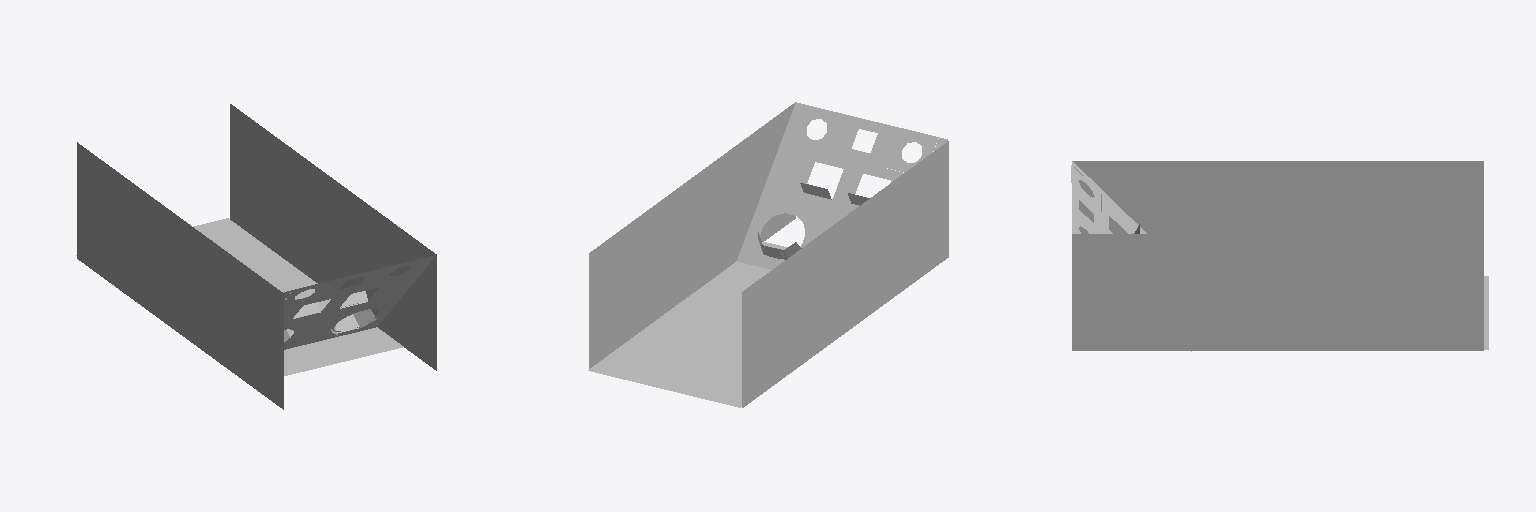
Rendered from SkeeBall_map0.obj.
The picture shows the model from 3 angles: view 1: azimuth 30°, elevation 25°; view 2: azimuth 150°, elevation 25°; view 3: azimuth 270°, elevation 25°; orthographic projection.
Parts seen in each view (by area): view 1: Plane.002, Plane.003, Plane.001, Plane; view 2: Plane.002, Plane.003, Plane.001, Plane; view 3: Plane.003, Plane.002, Plane.
Part boxes in pixels (x1,y1,x2,y2): Plane.002: (77, 142, 283, 409); Plane.003: (230, 104, 436, 370); Plane.001: (76, 218, 403, 375); Plane: (284, 255, 435, 349); Plane.002: (742, 141, 948, 407); Plane.003: (589, 102, 795, 368); Plane.001: (588, 242, 787, 407); Plane: (737, 102, 947, 269); Plane.003: (1072, 234, 1483, 350); Plane.002: (1073, 161, 1483, 233); Plane: (1071, 161, 1191, 351).
Bounding box in the file's own units: 2 × 1.48 × 4.73.